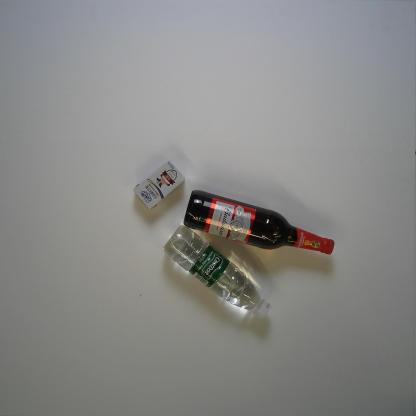Alcohol: (182, 188, 336, 256)
Drink: (162, 224, 272, 317)
Milk: (132, 160, 186, 211)
